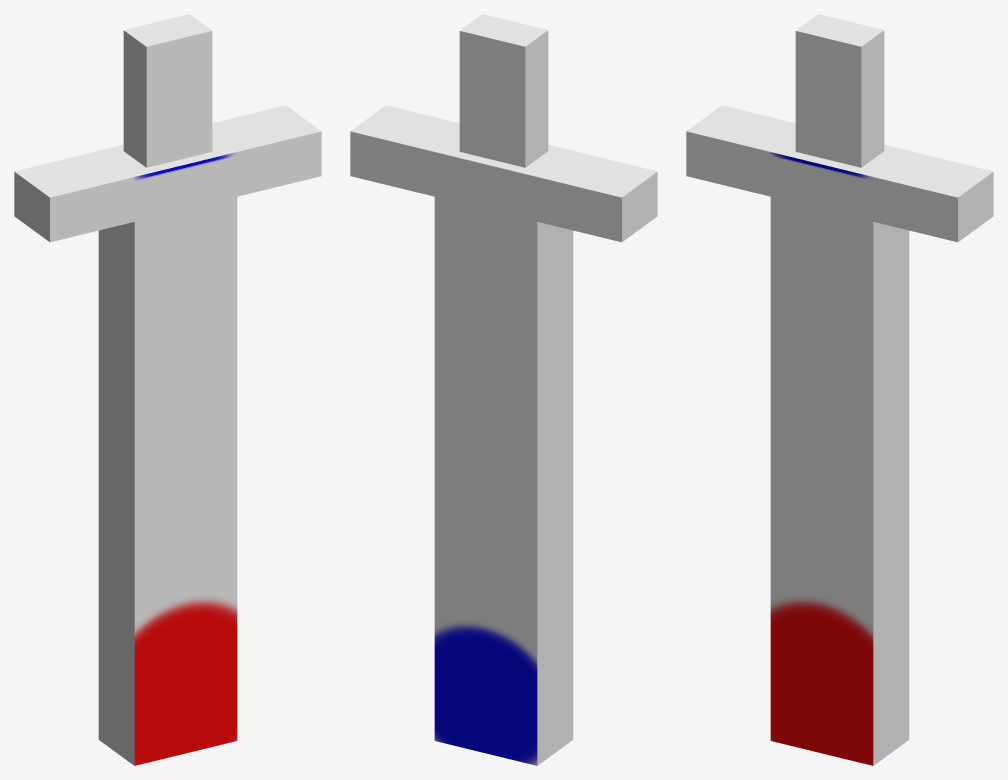
Rendered from sword.glb.
3 renders of one model, left to right at view 1: azimuth 30°, elevation 25°; view 2: azimuth 150°, elevation 25°; view 3: azimuth 330°, elevation 25°, orthographic.
Visible parts, largest first — view 1: Cube.001; view 2: Cube.001; view 3: Cube.001.
Boxes of the visible parts, bbox=[...] form: Cube.001: bbox=[14, 14, 321, 765]; Cube.001: bbox=[350, 14, 657, 765]; Cube.001: bbox=[686, 14, 993, 765].
Size of the model in its own units: 0.3722 by 0.9288 by 0.0849.
1 material, 1 textured.
